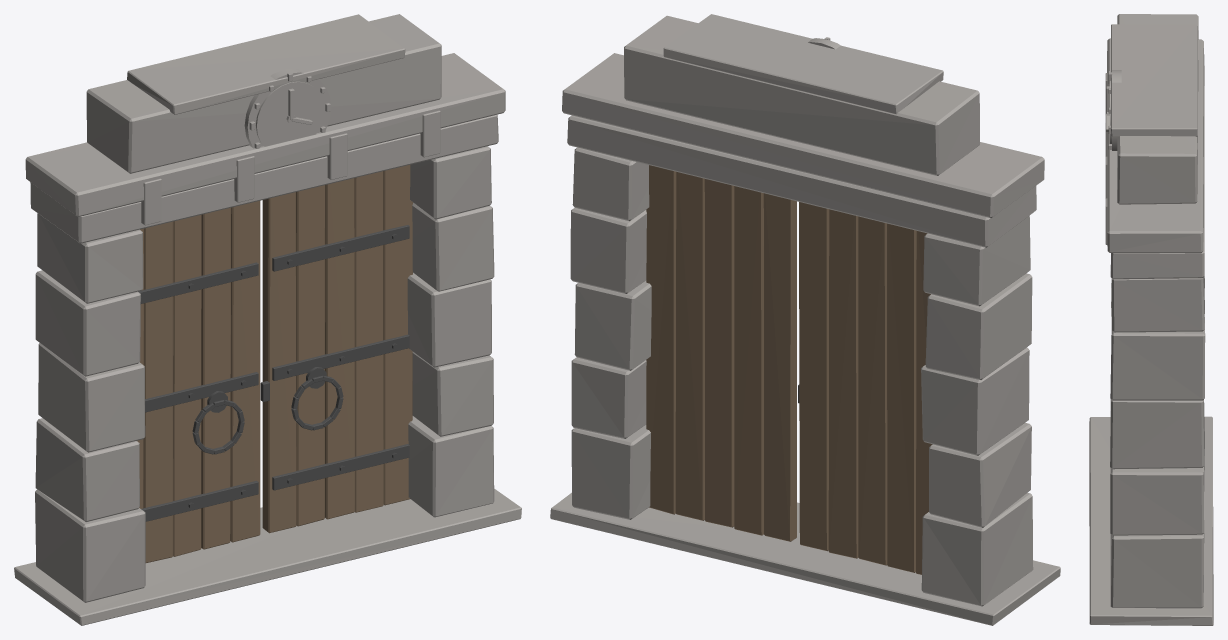
The model's file is great_doors.glb.
The picture shows the model from 3 angles, left to right: view 1: azimuth 30°, elevation 25°; view 2: azimuth 150°, elevation 25°; view 3: azimuth 270°, elevation 25°; orthographic projection. The views are drawn at different scales.
Visible parts, largest first — view 1: stone, wood, iron; view 2: stone, wood; view 3: stone.
Boxes of the visible parts, box(x1,y1,x2,y2) form: stone: box(14, 14, 521, 625); wood: box(137, 165, 413, 562); iron: box(138, 225, 409, 521); stone: box(550, 14, 1060, 625); wood: box(646, 165, 932, 574); stone: box(1089, 14, 1213, 625).
Bounding box in the file's own units: 7.62 × 8.09 × 2.01.
